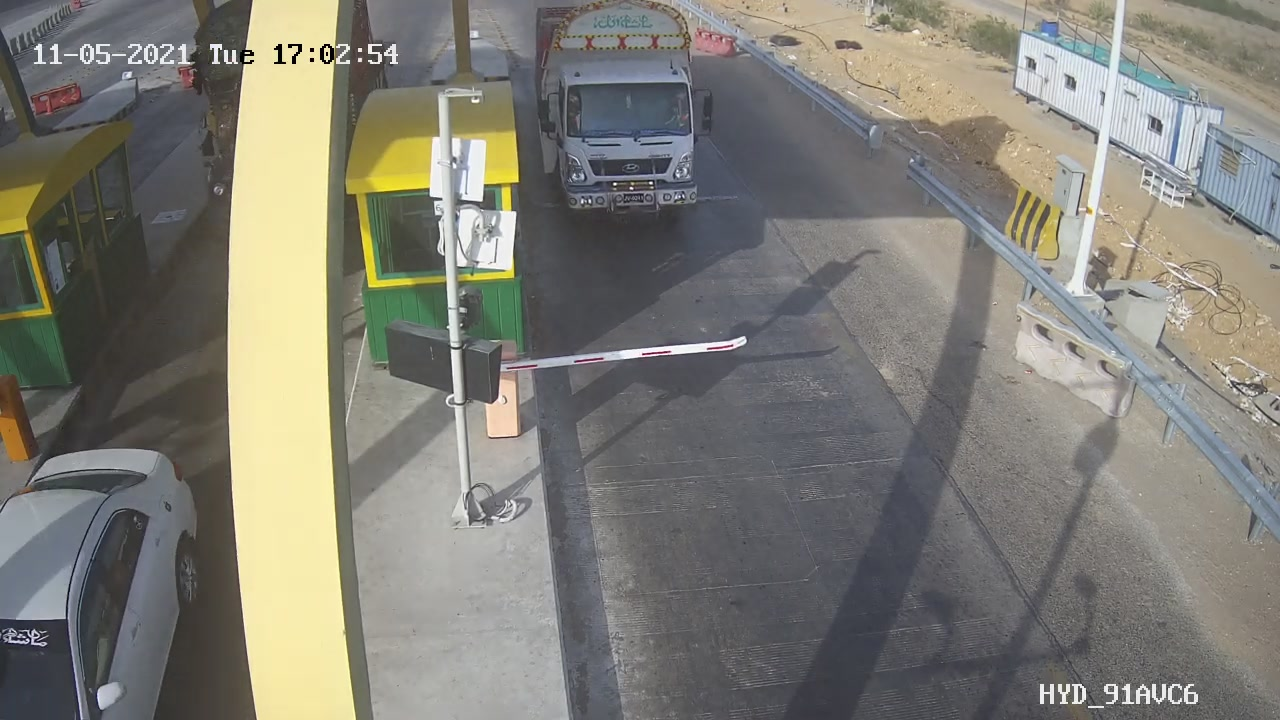F5: (522, 1, 733, 236)
